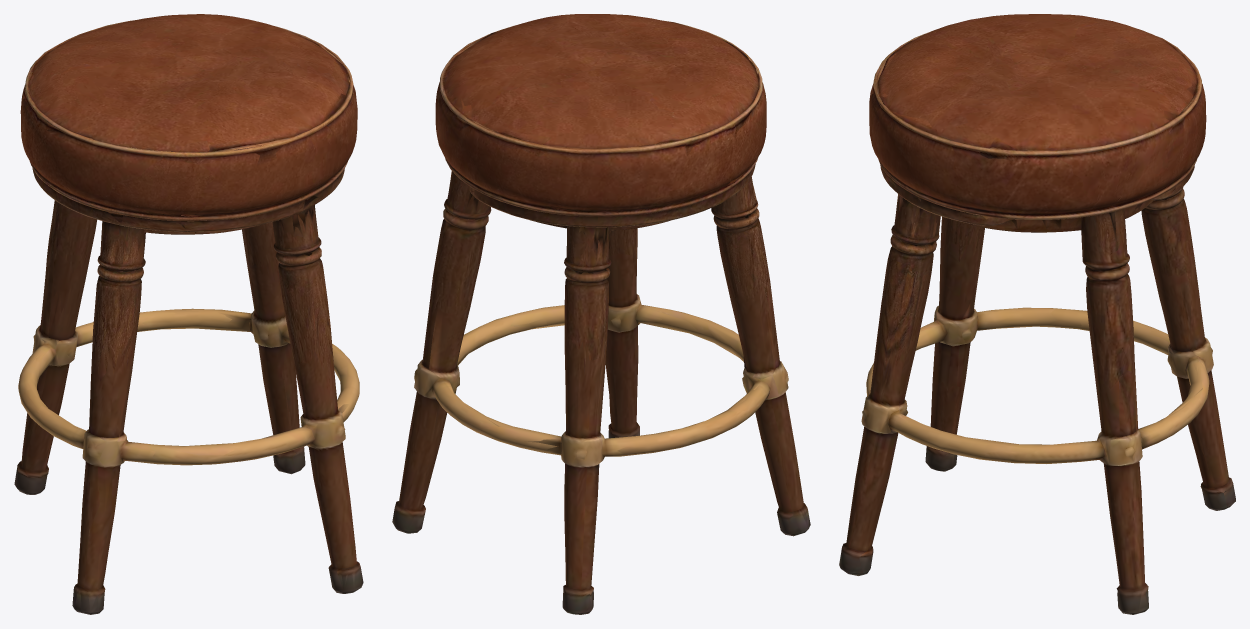
File: diner-stool.glb
3 views of the same model, side by side, from view 1: azimuth 30°, elevation 25°; view 2: azimuth 150°, elevation 25°; view 3: azimuth 270°, elevation 25° (orthographic).
Visible parts, largest first — view 1: Detailed view, Room view; view 2: Detailed view, Room view; view 3: Detailed view, Room view.
Boxes of the visible parts, bbox=[...] form: Detailed view: bbox=[14, 14, 363, 614]; Room view: bbox=[17, 17, 356, 611]; Detailed view: bbox=[394, 14, 808, 614]; Room view: bbox=[392, 14, 810, 614]; Detailed view: bbox=[839, 14, 1235, 614]; Room view: bbox=[839, 14, 1235, 612].
Size of the model in its own units: 0.6986 by 0.981 by 0.7381.
Materials: 1 (1 with a texture image).
